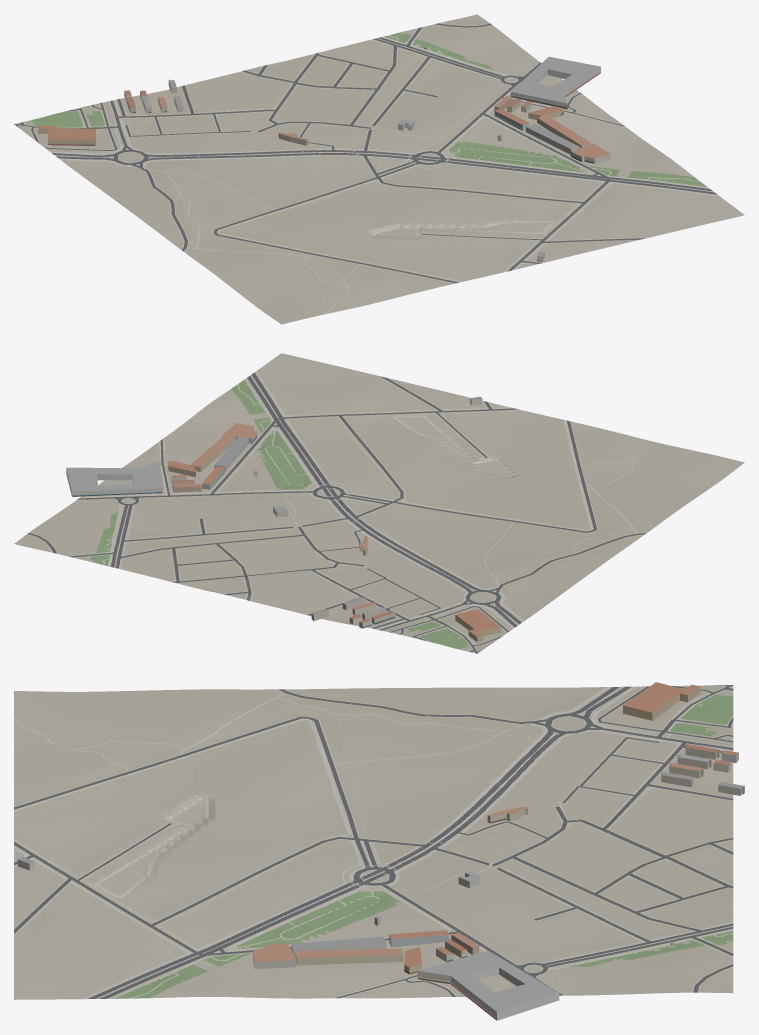
3 renders of one model, top to bottom at view 1: azimuth 30°, elevation 25°; view 2: azimuth 150°, elevation 25°; view 3: azimuth 270°, elevation 25°, orthographic. The views are drawn at different scales.
Parts seen in each view (by area): view 1: Ground, Sidewalk, Road, Roofs, Park, Walls; view 2: Ground, Sidewalk, Road, Roofs, Park, Walls; view 3: Ground, Sidewalk, Road, Roofs, Walls, Park.
Part boxes in pixels (left/top/right/bottom): Ground: left=17, top=14, right=744, bottom=324; Sidewalk: left=15, top=23, right=719, bottom=314; Road: left=14, top=23, right=717, bottom=283; Roofs: left=38, top=47, right=610, bottom=256; Park: left=31, top=32, right=706, bottom=186; Walls: left=38, top=47, right=610, bottom=261; Ground: left=14, top=353, right=744, bottom=653; Sidewalk: left=27, top=371, right=703, bottom=653; Road: left=27, top=372, right=646, bottom=653; Roofs: left=66, top=396, right=500, bottom=636; Park: left=89, top=380, right=469, bottom=649; Walls: left=66, top=399, right=500, bottom=642; Ground: left=14, top=685, right=733, bottom=999; Sidewalk: left=14, top=685, right=733, bottom=998; Road: left=14, top=685, right=733, bottom=998; Roofs: left=18, top=682, right=744, bottom=1011; Walls: left=17, top=687, right=744, bottom=1020; Park: left=113, top=694, right=733, bottom=998.
Bounding box in the file's own units: 1079 × 26.53 × 1016.
